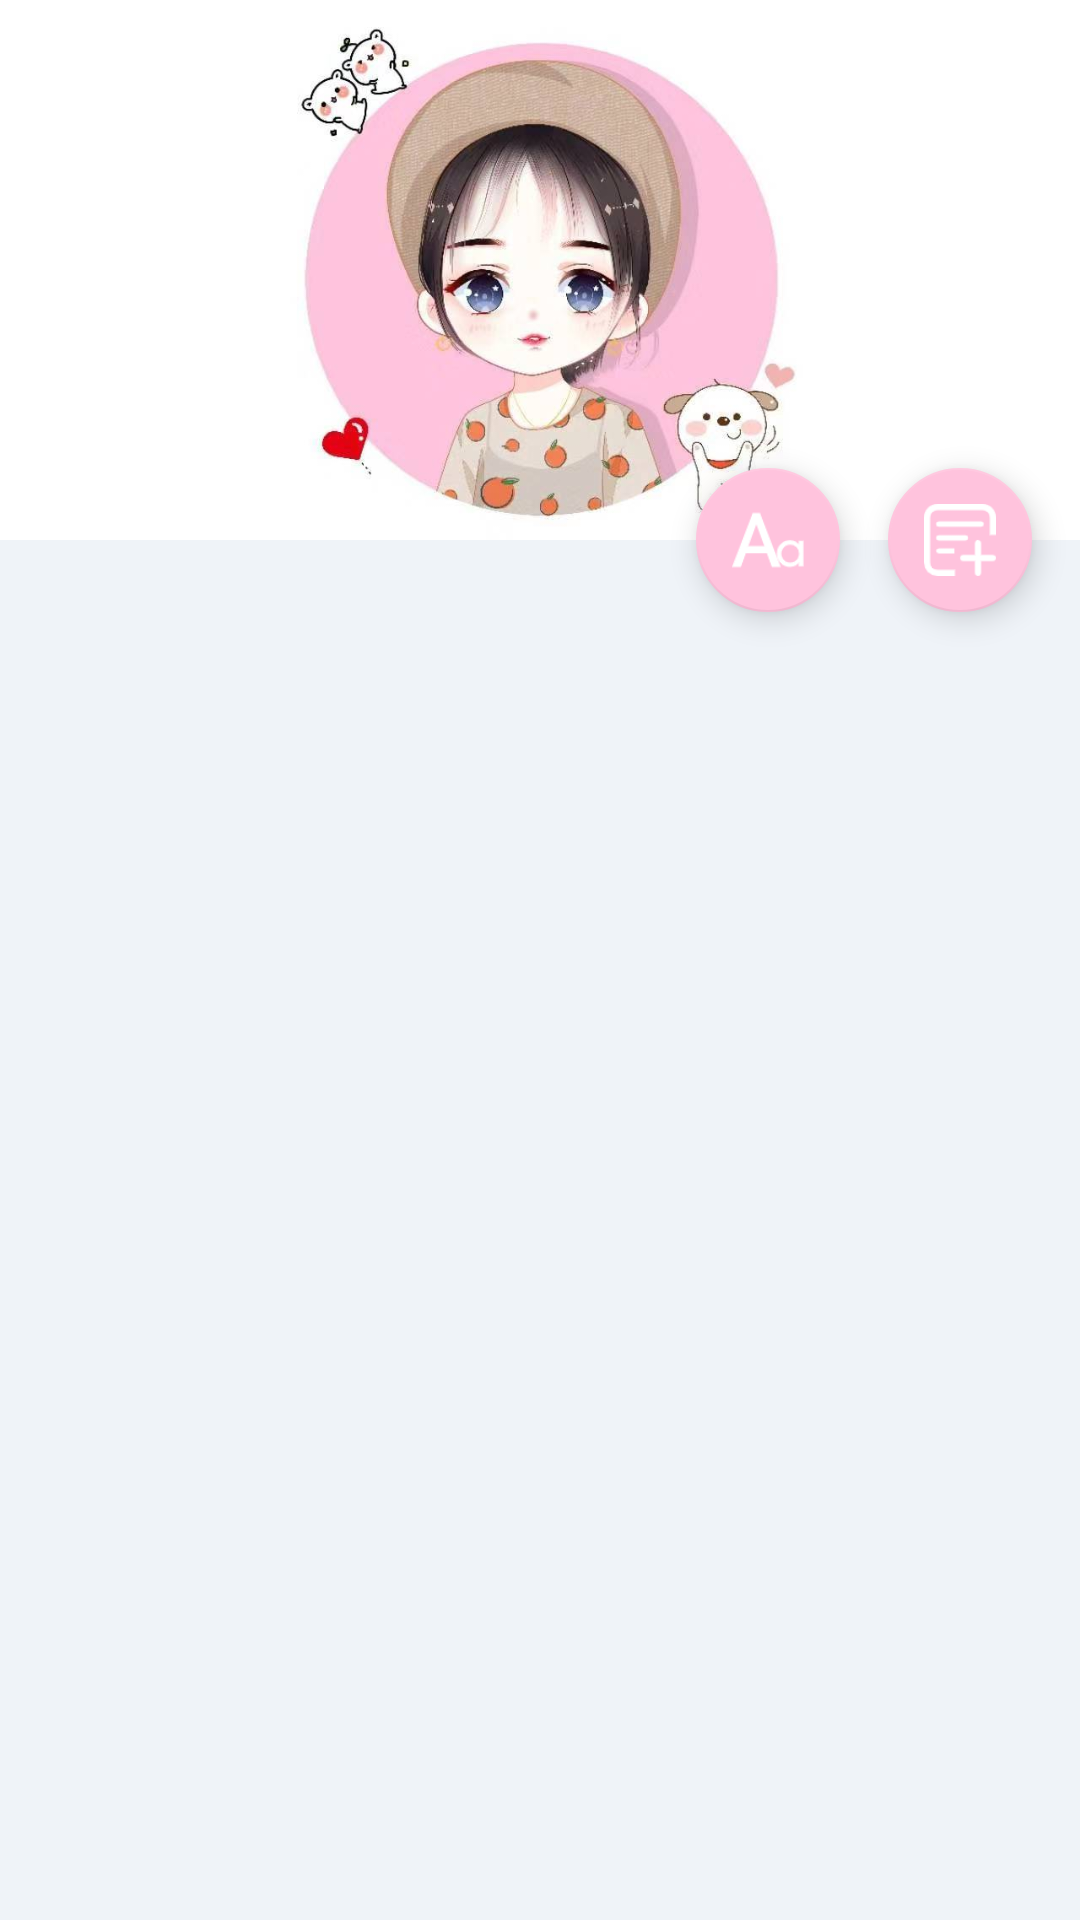

Point at icon controls on the screen. Image size 1080 x 1920, points as (x=x, y=y).
add: (x=960, y=540)
font config: (x=768, y=540)
